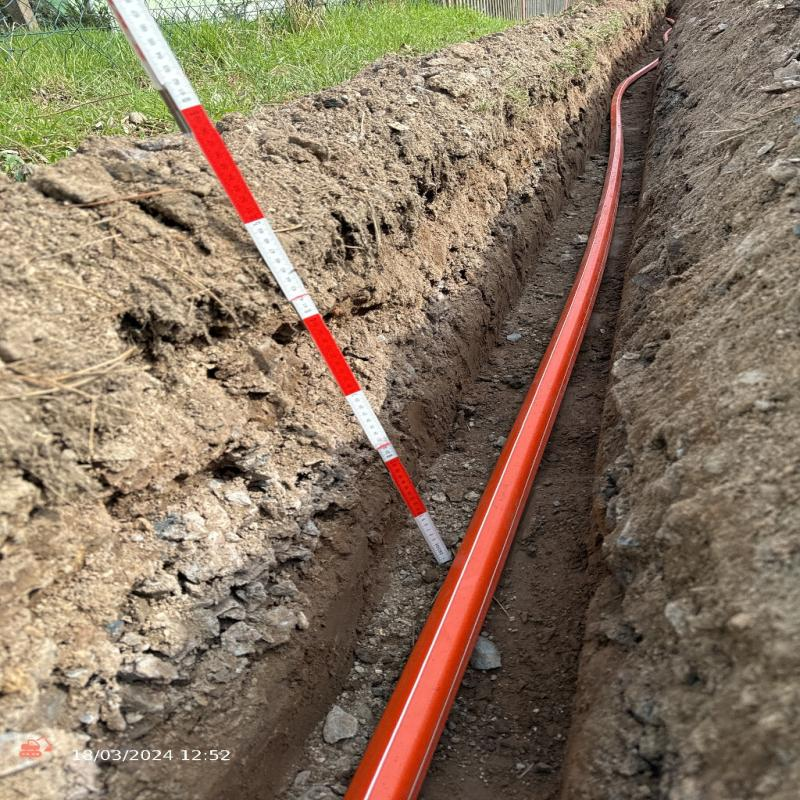Orang-Speednetrohrchen: (345, 98, 623, 799)
